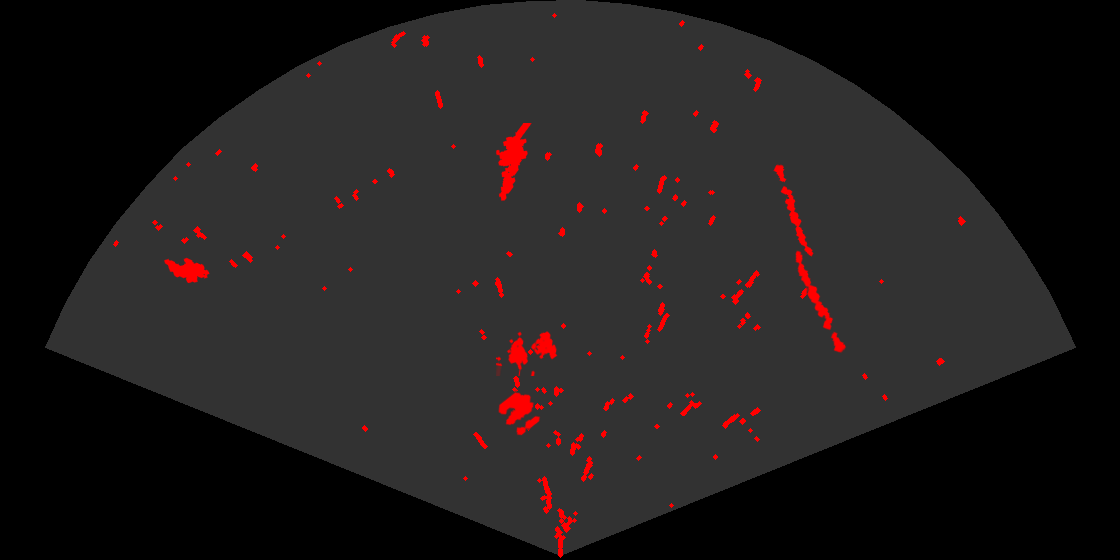AUV: (163, 256, 211, 285)
ball: (497, 390, 542, 437)
cage: (496, 330, 559, 376)
chain: (794, 249, 848, 355), (772, 162, 815, 258)
frogman: (494, 123, 533, 202)
